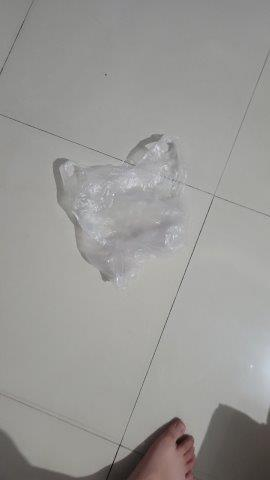plastik: (56, 136, 191, 282)
